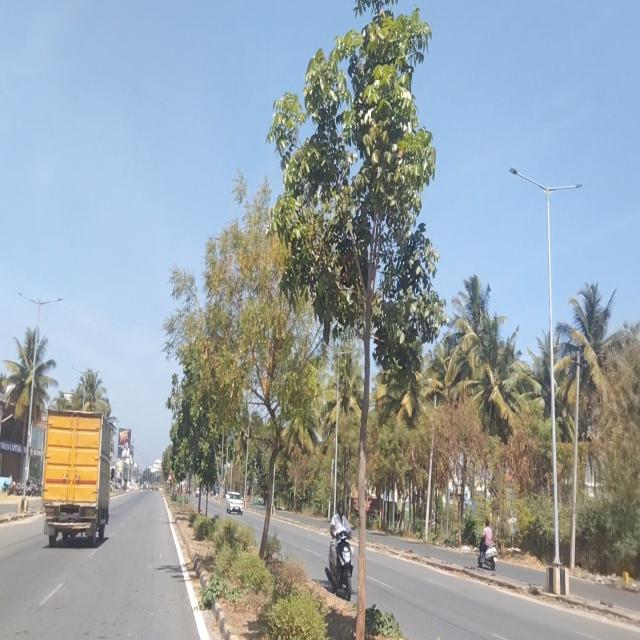bien_cam: (166, 472, 173, 484)
